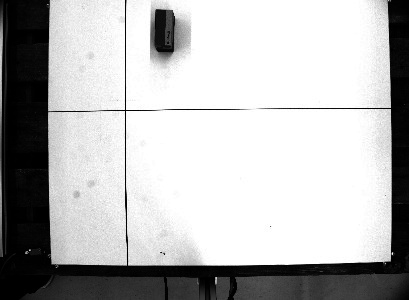b3: (151, 7, 178, 53)
